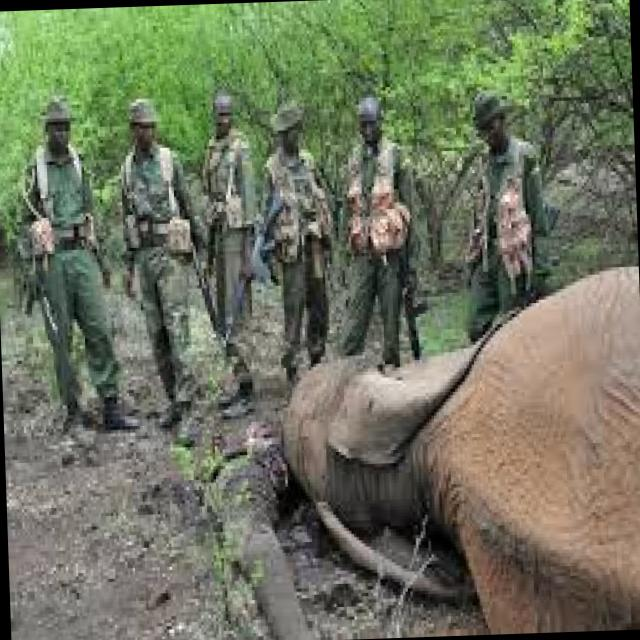elephant: (229, 316, 640, 568)
ranger: (17, 80, 144, 419), (255, 82, 412, 304), (114, 73, 254, 291), (426, 60, 536, 284)
